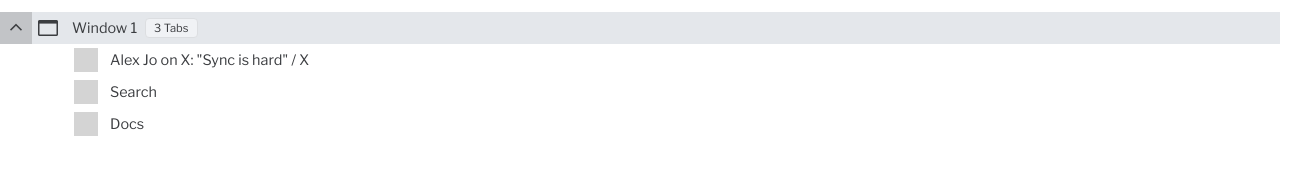
the rename field (KAN-824) › Enter saves the name and gives focus back to the row
Right-click the button "Alex Jo on X: \"Sync is hard\" / X" at (210, 60), box left=70, top=44, right=1280, bottom=76
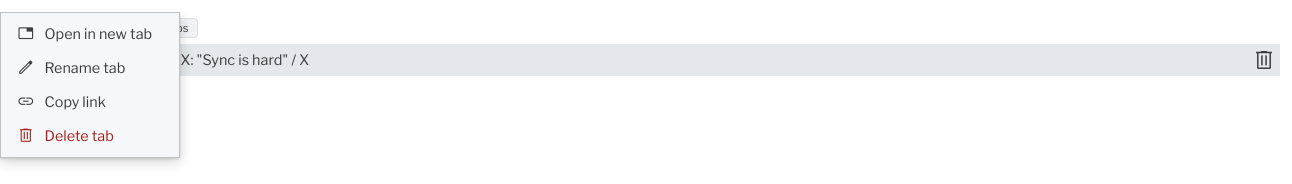
Click the menu item "Rename tab" at (90, 68), box left=5, top=51, right=175, bottom=85
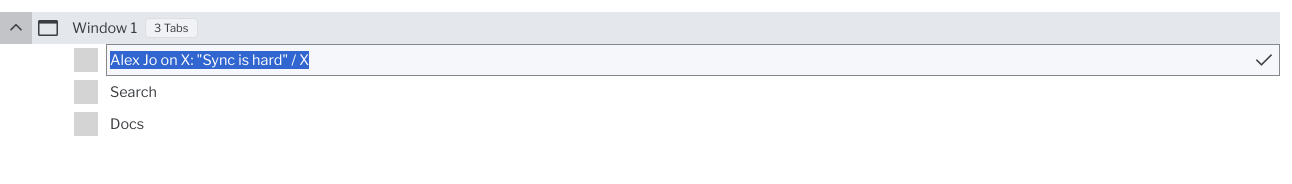
Type "Sync notes" into the field named "Rename tab: Alex Jo on X: \"Sync is hard\" / X" at (693, 60), box left=106, top=44, right=1280, bottom=76
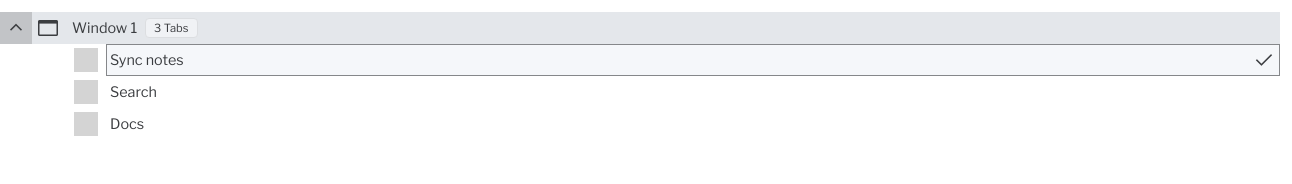
Press Enter in the field named "Rename tab: Alex Jo on X: \"Sync is hard\" / X", box left=106, top=44, right=1280, bottom=76
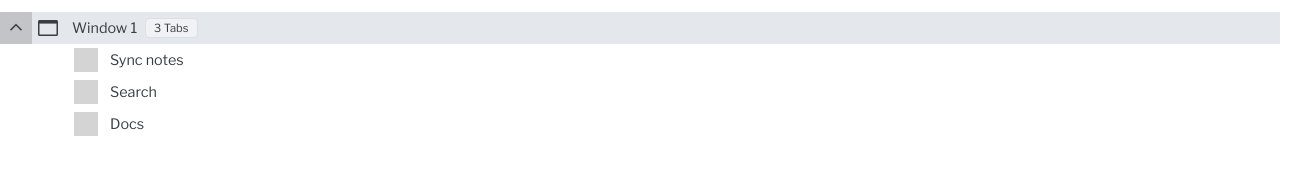
Expected: the text "Sync notes" is shown, left=110, top=51, right=184, bottom=69
Expected: the field is gone
